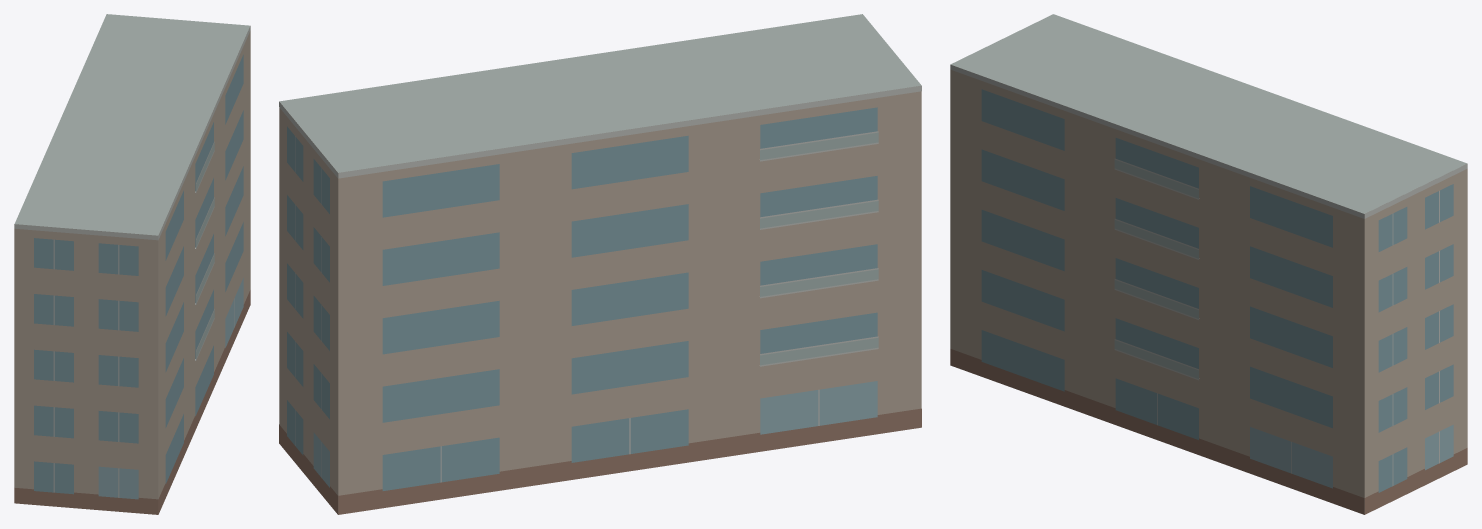
The model's file is survey-upis-32685608.glb.
The picture shows the model from 3 angles, left to right: view 1: azimuth 30°, elevation 25°; view 2: azimuth 150°, elevation 25°; view 3: azimuth 270°, elevation 25°; orthographic projection. The views are drawn at different scales.
Visible parts, largest first — view 1: survey-upis-32685608.tmp; view 2: survey-upis-32685608.tmp; view 3: survey-upis-32685608.tmp.
Part boxes in pixels (x1,y1,x2,y2): survey-upis-32685608.tmp: [14, 14, 250, 514]; survey-upis-32685608.tmp: [279, 14, 921, 514]; survey-upis-32685608.tmp: [950, 14, 1467, 514].
Bounding box in the file's own units: 20.97 × 14.7 × 22.91.
